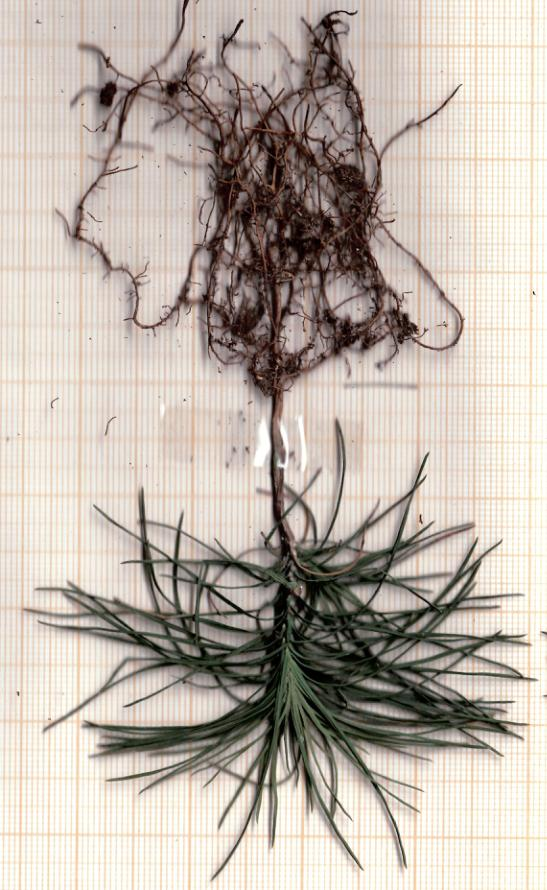flower: (17, 463, 531, 870)
root: (48, 19, 441, 391)
stem: (260, 388, 303, 544)
